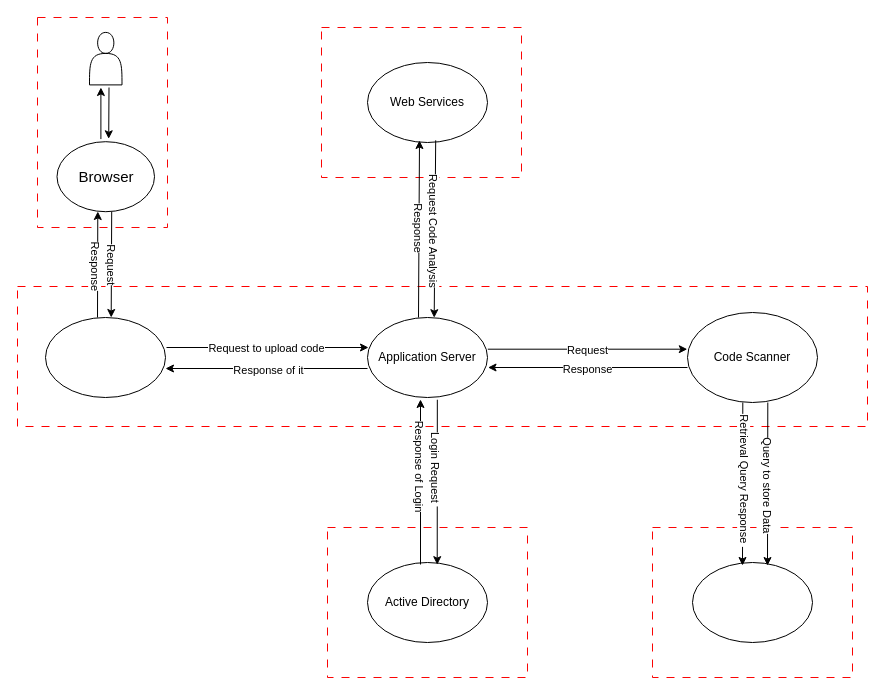
The diagram is 885 pixels wide and 695 high, and some of its shapes have lost their labels. Each missing label, with the box of its shape:
Database Server: (692, 562, 812, 642)
Web Server: (44, 316, 166, 398)
